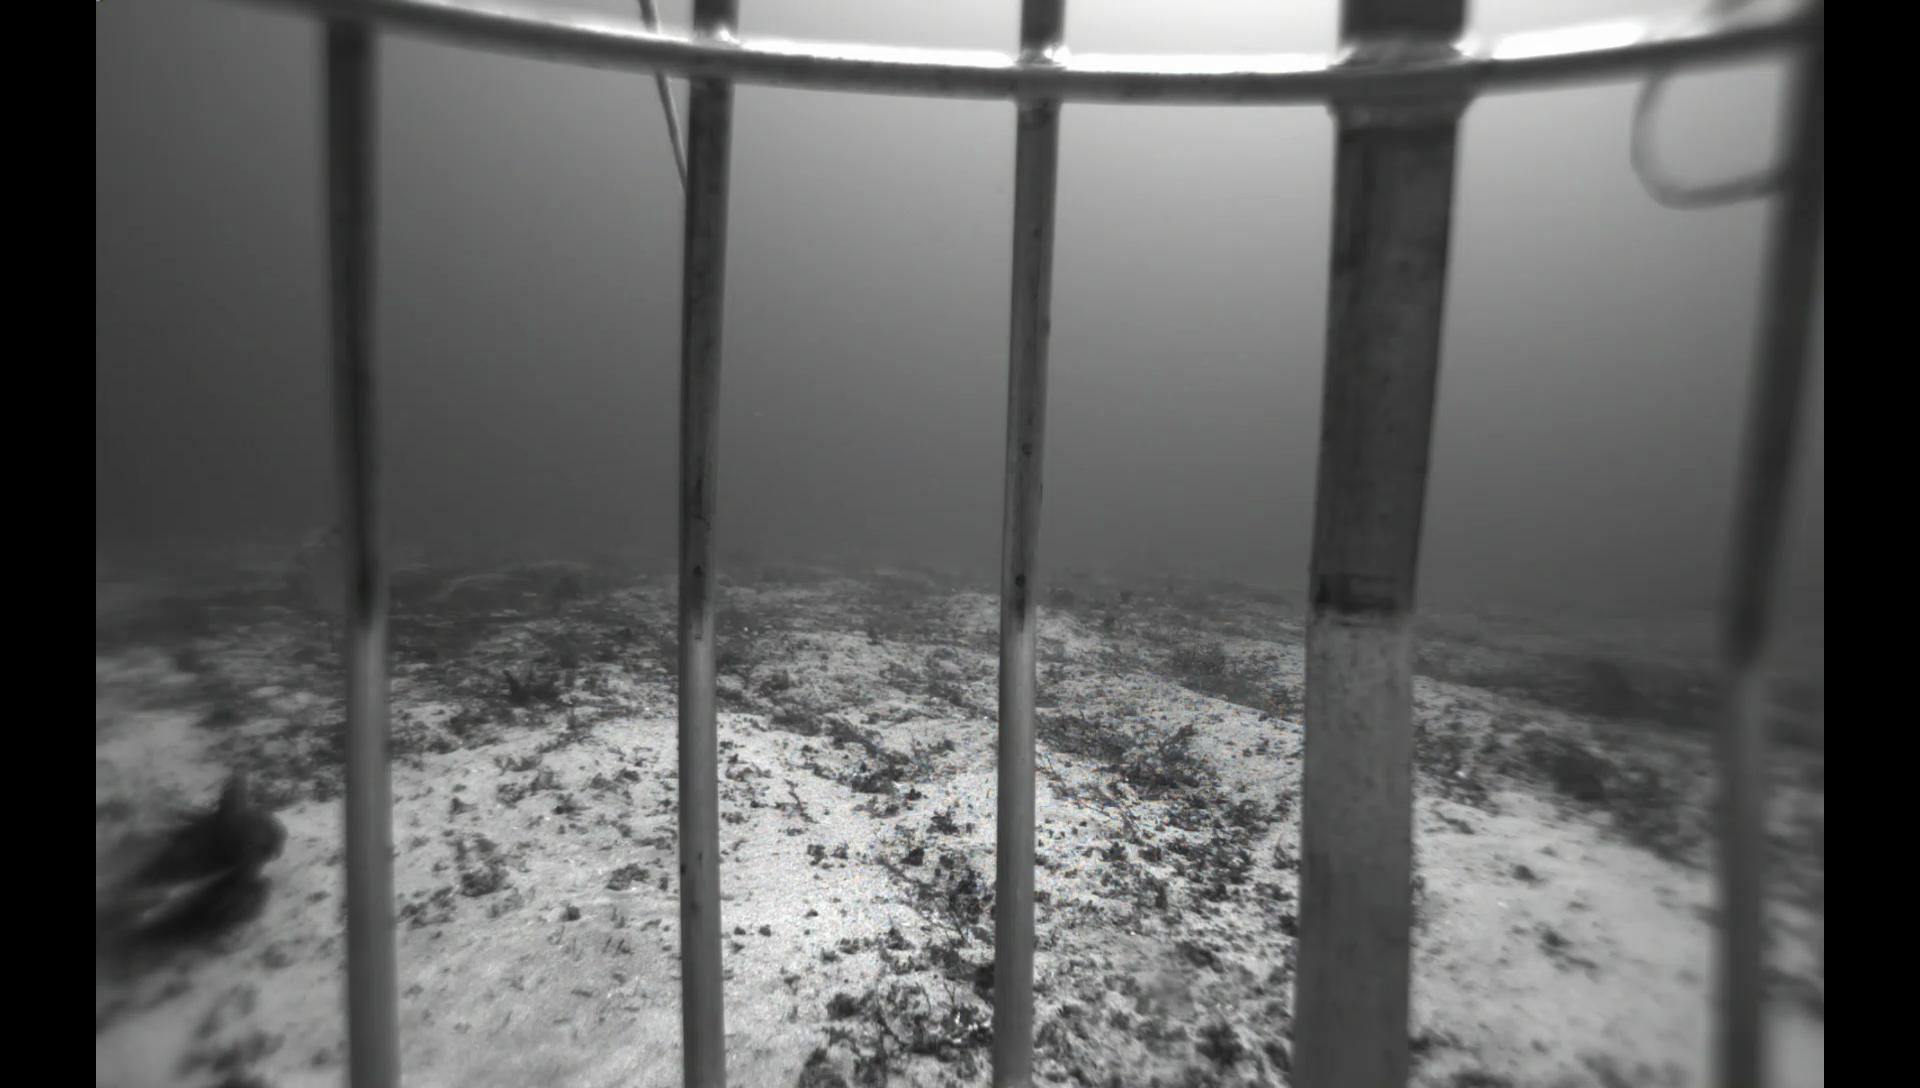EPINEPHELUSMORIO-170021211: (280, 502, 348, 663)
PTEROIS-168011900: (92, 719, 322, 948)
